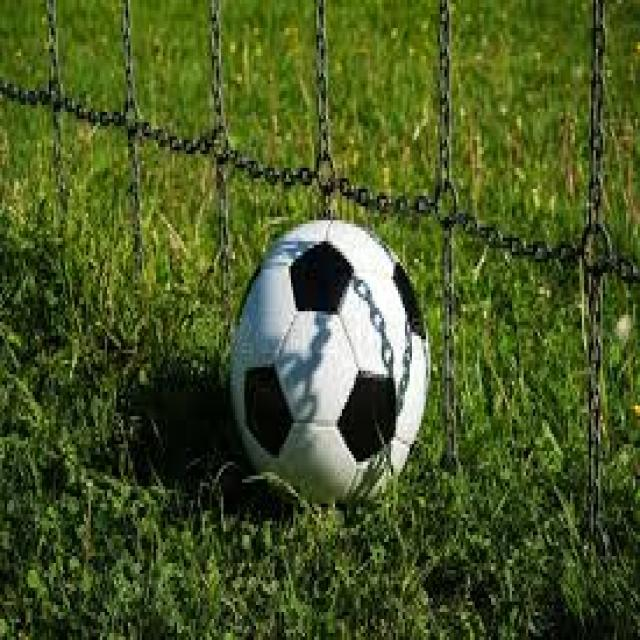ball: (230, 216, 429, 503)
